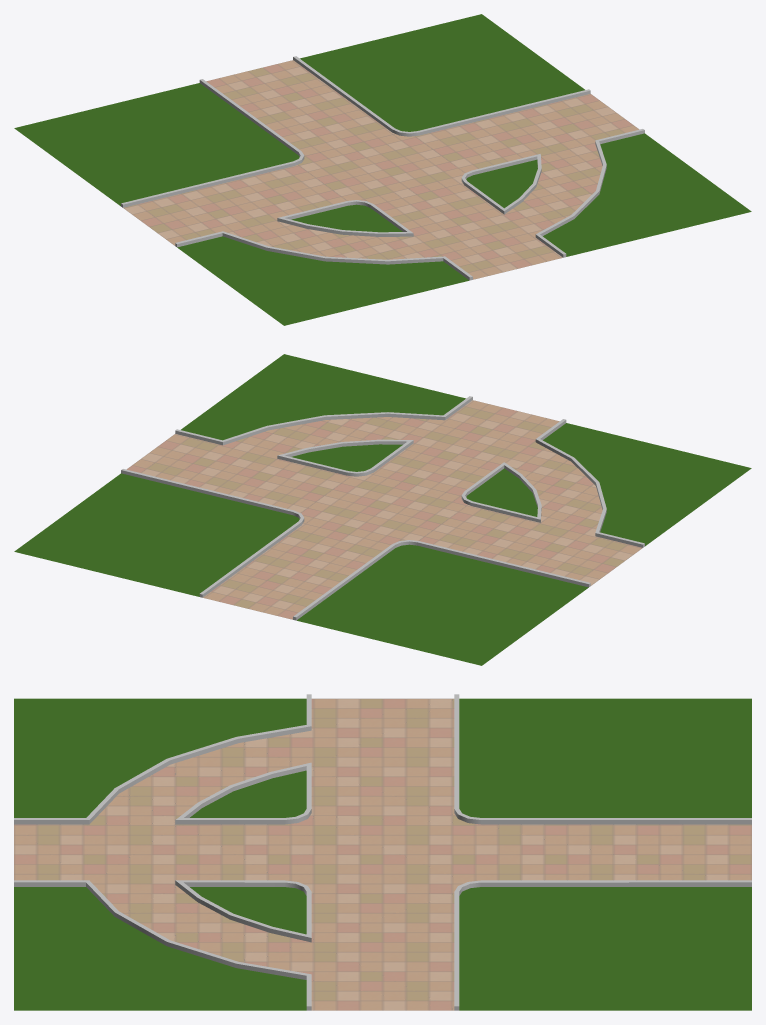
Rendered from Park_Sidewalk_07.fbx.
3 renders of one model, top to bottom at view 1: azimuth 30°, elevation 25°; view 2: azimuth 150°, elevation 25°; view 3: azimuth 270°, elevation 25°, orthographic. The views are drawn at different scales.
Visible parts, largest first — view 1: Park_Sidewalk_07; view 2: Park_Sidewalk_07; view 3: Park_Sidewalk_07.
Part boxes in pixels (<box>): Park_Sidewalk_07: <box>14,14,751,325</box>; Park_Sidewalk_07: <box>14,354,751,665</box>; Park_Sidewalk_07: <box>14,694,751,1010</box>.
Size of the model in its own units: 3000 by 3000 by 20.
